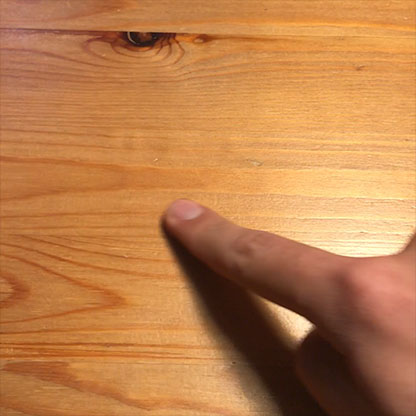fingertip: (155, 189, 211, 241)
